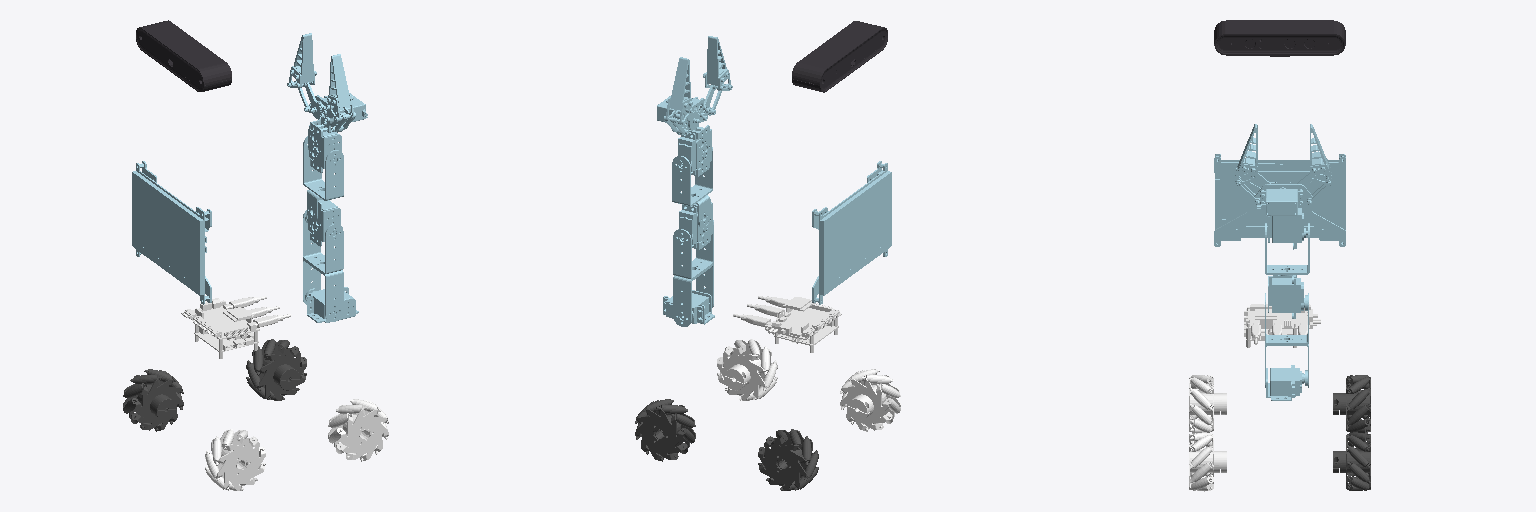
--- Facts derived from the render (not from the file) ---
The picture shows the robot from 3 angles, left to right: view 1: azimuth 30°, elevation 25°; view 2: azimuth 150°, elevation 25°; view 3: azimuth 270°, elevation 25°; orthographic projection.
Robot: mini_mec_moveit_four — 19 links, 18 joints (9 revolute, 4 continuous, 5 fixed); root link base_link; default pose: all joints at 0.
Visible links, largest first — view 1: display_link, camera_link, controller_link, j1_link, lb_wheel_link, rb_wheel_link, rf_wheel_link, lf_wheel_link, j2_link, j3_link, j4_6_link, j4_3_link (+1 smaller); view 2: display_link, camera_link, controller_link, lb_wheel_link, rb_wheel_link, lf_wheel_link, rf_wheel_link, j1_link, j2_link, j3_link, j4_3_link, j4_6_link (+1 smaller); view 3: display_link, camera_link, j3_link, j2_link, controller_link, rf_wheel_link, lf_wheel_link, rb_wheel_link, lb_wheel_link, arm_base_link, j4_6_link, j4_3_link (+1 smaller).
Link boxes in pixels (x1,y1,x2,y2): display_link: [132, 161, 211, 304]; camera_link: [136, 20, 231, 91]; controller_link: [181, 296, 290, 358]; j1_link: [303, 210, 343, 321]; lb_wheel_link: [123, 369, 183, 431]; rb_wheel_link: [205, 429, 265, 490]; rf_wheel_link: [328, 399, 388, 461]; lf_wheel_link: [246, 339, 306, 400]; j2_link: [303, 136, 343, 246]; j3_link: [308, 93, 367, 172]; j4_6_link: [326, 54, 355, 121]; j4_3_link: [287, 33, 316, 88]; display_link: [812, 161, 891, 304]; camera_link: [792, 21, 887, 92]; controller_link: [733, 296, 841, 352]; lb_wheel_link: [758, 429, 818, 490]; rb_wheel_link: [840, 369, 900, 431]; lf_wheel_link: [635, 399, 695, 461]; rf_wheel_link: [717, 339, 777, 400]; j1_link: [673, 220, 713, 326]; j2_link: [672, 147, 712, 249]; j3_link: [657, 96, 711, 176]; j4_3_link: [664, 57, 693, 124]; j4_6_link: [703, 36, 732, 90]; display_link: [1214, 154, 1345, 246]; camera_link: [1214, 20, 1345, 56]; j3_link: [1255, 184, 1312, 249]; j2_link: [1265, 223, 1309, 318]; controller_link: [1244, 304, 1320, 347]; rf_wheel_link: [1189, 432, 1226, 491]; lf_wheel_link: [1333, 432, 1370, 490]; rb_wheel_link: [1189, 375, 1226, 432]; lb_wheel_link: [1333, 375, 1370, 432]; arm_base_link: [1266, 365, 1303, 400]; j4_6_link: [1235, 124, 1257, 185]; j4_3_link: [1310, 124, 1331, 185].
Size in the robot's own frame: 0.2686 by 0.23 by 0.5538 metres.
Meshes: 19 distinct files referenced, 17 mesh visuals loaded (17 binary STL); not drawn: 2 (reference not matched to a file when rendering).

URDF robot description (mini_mec_moveit_four):
<?xml version="1.0" encoding="utf-8"?>
<!-- This URDF was automatically created by SolidWorks to URDF Exporter! Originally created by Stephen Brawner ([email redacted]) 
     Commit Version: 1.6.0-4-g7f85cfe  Build Version: 1.6.7995.38578
     For more information, please see http://wiki.ros.org/sw_urdf_exporter -->
<robot
  name="mini_mec_moveit_four">
  <link
    name="base_link">
    <inertial>
      <origin
        xyz="-0.0288890314206469 -0.015642077780476 0.0436360901071621"
        rpy="0 0 0" />
      <mass
        value="0.790407577795994" />
      <inertia
        ixx="0.000943597161237982"
        ixy="-1.71266218103295E-06"
        ixz="-5.31757304397624E-07"
        iyy="0.00118568090455033"
        iyz="-2.60899506016619E-07"
        izz="0.00117138387596436" />
    </inertial>
    <visual>
      <origin
        xyz="0 0 0"
        rpy="0 0 0" />
      <geometry>
        <mesh
          filename="package://wheeltec_robot_urdf/meshes/mini_mec_moveit_four_meshes/base_link.STL" />
      </geometry>
      <material
        name="">
        <color
          rgba="0.741176470588235 0.901960784313726 0.956862745098039 1" />
      </material>
    </visual>
    <collision>
      <origin
        xyz="0 0 0"
        rpy="0 0 0" />
      <geometry>
        <mesh
          filename="package://wheeltec_robot_urdf/meshes/mini_mec_moveit_four_meshes/base_link.STL" />
      </geometry>
    </collision>
  </link>
  <link
    name="lf_wheel_link">
    <inertial>
      <origin
        xyz="-4.83478163076144E-05 -0.00361887872849197 2.36591801652045E-05"
        rpy="0 0 0" />
      <mass
        value="0.0567325127195105" />
      <inertia
        ixx="2.10255136964011E-05"
        ixy="-1.10234792421598E-08"
        ixz="3.75231887154096E-09"
        iyy="3.39275378717874E-05"
        iyz="-8.512181626321E-10"
        izz="2.1005972294696E-05" />
    </inertial>
    <visual>
      <origin
        xyz="0 0 0"
        rpy="0 0 0" />
      <geometry>
        <mesh
          filename="package://wheeltec_robot_urdf/meshes/mini_mec_moveit_four_meshes/lf_wheel_link.STL" />
      </geometry>
      <material
        name="">
        <color
          rgba="0.376470588235294 0.376470588235294 0.376470588235294 1" />
      </material>
    </visual>
    <collision>
      <origin
        xyz="0 0 0"
        rpy="0 0 0" />
      <geometry>
        <mesh
          filename="package://wheeltec_robot_urdf/meshes/mini_mec_moveit_four_meshes/lf_wheel_link.STL" />
      </geometry>
    </collision>
  </link>
  <joint
    name="lf_wheel_joint"
    type="continuous">
    <origin
      xyz="0.0788906867829701 0.099101092708038 -0.0363"
      rpy="0 0 0" />
    <parent
      link="base_link" />
    <child
      link="lf_wheel_link" />
    <axis
      xyz="0 1 0" />
  </joint>
  <link
    name="lb_wheel_link">
    <inertial>
      <origin
        xyz="-4.83408906538918E-05 -0.00361520799762223 2.36829880558981E-05"
        rpy="0 0 0" />
      <mass
        value="0.0567315810020763" />
      <inertia
        ixx="2.10250586980581E-05"
        ixy="-1.10244929399991E-08"
        ixz="3.74419121690137E-09"
        iyy="3.39268129120576E-05"
        iyz="-8.4580711315252E-10"
        izz="2.10055351648923E-05" />
    </inertial>
    <visual>
      <origin
        xyz="0 0 0"
        rpy="0 0 0" />
      <geometry>
        <mesh
          filename="package://wheeltec_robot_urdf/meshes/mini_mec_moveit_four_meshes/lb_wheel_link.STL" />
      </geometry>
      <material
        name="">
        <color
          rgba="0.376470588235294 0.376470588235294 0.376470588235294 1" />
      </material>
    </visual>
    <collision>
      <origin
        xyz="0 0 0"
        rpy="0 0 0" />
      <geometry>
        <mesh
          filename="package://wheeltec_robot_urdf/meshes/mini_mec_moveit_four_meshes/lb_wheel_link.STL" />
      </geometry>
    </collision>
  </link>
  <joint
    name="lb_wheel_joint"
    type="continuous">
    <origin
      xyz="-0.0930093132170299 0.0990810927080386 -0.0363"
      rpy="0 0 0" />
    <parent
      link="base_link" />
    <child
      link="lb_wheel_link" />
    <axis
      xyz="0 1 0" />
  </joint>
  <link
    name="rb_wheel_link">
    <inertial>
      <origin
        xyz="4.83478187075781E-05 0.00361887872849195 2.36591801652045E-05"
        rpy="0 0 0" />
      <mass
        value="0.0567325127195103" />
      <inertia
        ixx="2.10255136964011E-05"
        ixy="-1.10234792421736E-08"
        ixz="-3.75231887155842E-09"
        iyy="3.39275378717874E-05"
        iyz="8.51218162637479E-10"
        izz="2.1005972294696E-05" />
    </inertial>
    <visual>
      <origin
        xyz="0 0 0"
        rpy="0 0 0" />
      <geometry>
        <mesh
          filename="package://wheeltec_robot_urdf/meshes/mini_mec_moveit_four_meshes/rb_wheel_link.STL" />
      </geometry>
      <material
        name="">
        <color
          rgba="1 1 1 1" />
      </material>
    </visual>
    <collision>
      <origin
        xyz="0 0 0"
        rpy="0 0 0" />
      <geometry>
        <mesh
          filename="package://wheeltec_robot_urdf/meshes/mini_mec_moveit_four_meshes/rb_wheel_link.STL" />
      </geometry>
    </collision>
  </link>
  <joint
    name="rb_wheel_joint"
    type="continuous">
    <origin
      xyz="-0.0930093132170305 -0.0989229072919614 -0.0363"
      rpy="0 0 0" />
    <parent
      link="base_link" />
    <child
      link="rb_wheel_link" />
    <axis
      xyz="0 -1 0" />
  </joint>
  <link
    name="rf_wheel_link">
    <inertial>
      <origin
        xyz="4.83408916039321E-05 0.00361520799762222 2.36829880558911E-05"
        rpy="0 0 0" />
      <mass
        value="0.0567315810020762" />
      <inertia
        ixx="2.1025058698058E-05"
        ixy="-1.10244929399854E-08"
        ixz="-3.74419121693089E-09"
        iyy="3.39268129120575E-05"
        iyz="8.45807113153057E-10"
        izz="2.10055351648923E-05" />
    </inertial>
    <visual>
      <origin
        xyz="0 0 0"
        rpy="0 0 0" />
      <geometry>
        <mesh
          filename="package://wheeltec_robot_urdf/meshes/mini_mec_moveit_four_meshes/rf_wheel_link.STL" />
      </geometry>
      <material
        name="">
        <color
          rgba="1 1 1 1" />
      </material>
    </visual>
    <collision>
      <origin
        xyz="0 0 0"
        rpy="0 0 0" />
      <geometry>
        <mesh
          filename="package://wheeltec_robot_urdf/meshes/mini_mec_moveit_four_meshes/rf_wheel_link.STL" />
      </geometry>
    </collision>
  </link>
  <joint
    name="rf_wheel_joint"
    type="continuous">
    <origin
      xyz="0.0788906867829694 -0.098902907291962 -0.0363"
      rpy="0 0 0" />
    <parent
      link="base_link" />
    <child
      link="rf_wheel_link" />
    <axis
      xyz="0 -1 0" />
  </joint>
  <link
    name="display_link">
    <inertial>
      <origin
        xyz="0.00138393934472542 6.1350833261072E-05 -0.000147784826508679"
        rpy="0 0 0" />
      <mass
        value="0.13658547407649" />
      <inertia
        ixx="0.000420294418622929"
        ixy="-6.6532385983323E-09"
        ixz="1.01680375210555E-07"
        iyy="0.00011971237995594"
        iyz="-2.9989136828546E-09"
        izz="0.000301574188295852" />
    </inertial>
    <visual>
      <origin
        xyz="0 0 0"
        rpy="0 0 0" />
      <geometry>
        <mesh
          filename="package://wheeltec_robot_urdf/meshes/mini_mec_moveit_four_meshes/display_link.STL" />
      </geometry>
      <material
        name="">
        <color
          rgba="0.741176470588235 0.901960784313726 0.956862745098039 1" />
      </material>
    </visual>
    <collision>
      <origin
        xyz="0 0 0"
        rpy="0 0 0" />
      <geometry>
        <mesh
          filename="package://wheeltec_robot_urdf/meshes/mini_mec_moveit_four_meshes/display_link.STL" />
      </geometry>
    </collision>
  </link>
  <joint
    name="display_joint"
    type="fixed">
    <origin
      xyz="-0.12884031321703 -0.000306907291961278 0.234556"
      rpy="0 0 0" />
    <parent
      link="base_link" />
    <child
      link="display_link" />
    <axis
      xyz="0 0 0" />
  </joint>
  <link
    name="camera_link">
    <inertial>
      <origin
        xyz="1.92132507986775E-07 2.71016083010166E-07 -1.33153068682113E-07"
        rpy="0 0 0" />
      <mass
        value="0.0467968467944478" />
      <inertia
        ixx="0.000124054725109586"
        ixy="1.14786553608882E-07"
        ixz="9.32111658822134E-08"
        iyy="1.46824987169094E-05"
        iyz="-1.36959577190691E-08"
        izz="0.000126757573502196" />
    </inertial>
    <visual>
      <origin
        xyz="0 0 0"
        rpy="0 0 0" />
      <geometry>
        <mesh
          filename="package://wheeltec_robot_urdf/meshes/mini_mec_moveit_four_meshes/camera_link.STL" />
      </geometry>
      <material
        name="">
        <color
          rgba="0.266666666666667 0.254901960784314 0.274509803921569 1" />
      </material>
    </visual>
    <collision>
      <origin
        xyz="0 0 0"
        rpy="0 0 0" />
      <geometry>
        <mesh
          filename="package://wheeltec_robot_urdf/meshes/mini_mec_moveit_four_meshes/camera_link.STL" />
      </geometry>
    </collision>
  </link>
  <joint
    name="camera_joint"
    type="fixed">
    <origin
      xyz="-0.10712931321703 0.000182092708038664 0.465042"
      rpy="0 0 0" />
    <parent
      link="base_link" />
    <child
      link="camera_link" />
    <axis
      xyz="0 0 0" />
  </joint>
  <link
    name="controller_link">
    <inertial>
      <origin
        xyz="-0.0153202309343642 0.0364072897050282 0.0252489862343937"
        rpy="0 0 0" />
      <mass
        value="0.0386298604939844" />
      <inertia
        ixx="2.20171985391327E-05"
        ixy="1.25708118727772E-06"
        ixz="-1.18411165982165E-07"
        iyy="2.40619422694007E-05"
        iyz="4.00646980395019E-07"
        izz="4.5104828922749E-05" />
    </inertial>
    <visual>
      <origin
        xyz="0 0 0"
        rpy="0 0 0" />
      <geometry>
        <mesh
          filename="package://wheeltec_robot_urdf/meshes/mini_mec_moveit_four_meshes/controller_link.STL" />
      </geometry>
      <material
        name="">
        <color
          rgba="1 1 1 1" />
      </material>
    </visual>
    <collision>
      <origin
        xyz="0 0 0"
        rpy="0 0 0" />
      <geometry>
        <mesh
          filename="package://wheeltec_robot_urdf/meshes/mini_mec_moveit_four_meshes/controller_link.STL" />
      </geometry>
    </collision>
  </link>
  <joint
    name="controller_joint"
    type="fixed">
    <origin
      xyz="-0.027713924223503 -0.040735803599292 0.0719999764122504"
      rpy="0 0 0" />
    <parent
      link="base_link" />
    <child
      link="controller_link" />
    <axis
      xyz="0 0 0" />
  </joint>
  <link
    name="laser_link">
    <inertial>
      <origin
        xyz="0.002506303113797 -4.56584138454829E-06 0.00608265171345093"
        rpy="0 0 0" />
      <mass
        value="0.0374307357752242" />
      <inertia
        ixx="2.80476450253966E-05"
        ixy="-2.1990036892983E-09"
        ixz="1.07118438656851E-06"
        iyy="3.36164872395303E-05"
        iyz="6.83963484251461E-10"
        izz="4.50845485892843E-05" />
    </inertial>
    <visual>
      <origin
        xyz="0 0 0"
        rpy="0 0 0" />
      <geometry>
        <mesh
          filename="package://wheeltec_robot_urdf/meshes/mini_mec_moveit_four_meshes/laser.STL" />
      </geometry>
      <material
        name="">
        <color
          rgba="0.376470588235294 0.376470588235294 0.376470588235294 1" />
      </material>
    </visual>
    <collision>
      <origin
        xyz="0 0 0"
        rpy="0 0 0" />
      <geometry>
        <mesh
          filename="package://wheeltec_robot_urdf/meshes/mini_mec_moveit_four_meshes/laser.STL" />
      </geometry>
    </collision>
  </link>
  <joint
    name="laser_joint"
    type="fixed">
    <origin
      xyz="0.0903982522908868 8.90927067649963E-05 0.011024183741431"
      rpy="0 0 3.14159265358979" />
    <parent
      link="base_link" />
    <child
      link="laser_link" />
    <axis
      xyz="0 0 0" />
  </joint>
  <link
    name="arm_base_link">
    <inertial>
      <origin
        xyz="-0.000199500251190182 0.00484632807246536 0.010410896975763"
        rpy="0 0 0" />
      <mass
        value="0.038029914699691" />
      <inertia
        ixx="6.59286998207163E-06"
        ixy="1.52166973047949E-07"
        ixz="-6.11635522640715E-11"
        iyy="7.36864724408771E-06"
        iyz="1.45081779343016E-07"
        izz="1.12027270721149E-05" />
    </inertial>
    <visual>
      <origin
        xyz="0 0 0"
        rpy="0 0 0" />
      <geometry>
        <mesh
          filename="package://wheeltec_robot_urdf/meshes/mini_mec_moveit_four_meshes/arm_base_link.STL" />
      </geometry>
      <material
        name="">
        <color
          rgba="0.741176470588235 0.901960784313726 0.956862745098039 1" />
      </material>
    </visual>
    <collision>
      <origin
        xyz="0 0 0"
        rpy="0 0 0" />
      <geometry>
        <mesh
          filename="package://wheeltec_robot_urdf/meshes/mini_mec_moveit_four_meshes/arm_base_link.STL" />
      </geometry>
    </collision>
  </link>
  <joint
    name="arm_base_joint"
    type="fixed">
    <origin
      xyz="0.10149068678574 0.0014721798827412 0.0740000000000003"
      rpy="0 0 0" />
    <parent
      link="base_link" />
    <child
      link="arm_base_link" />
    <axis
      xyz="0 0 0" />
  </joint>
  <link
    name="j1_link">
    <inertial>
      <origin
        xyz="-6.69603261727048E-16 -0.0496519077290491 -0.0237858190346654"
        rpy="0 0 0" />
      <mass
        value="0.0173546467959671" />
      <inertia
        ixx="1.62161311115798E-05"
        ixy="-2.32968765805357E-20"
        ixz="-1.81409681047434E-19"
        iyy="1.04896423510421E-05"
        iyz="-3.34422981326276E-20"
        izz="7.52372716212686E-06" />
    </inertial>
    <visual>
      <origin
        xyz="0 0 0"
        rpy="0 0 0" />
      <geometry>
        <mesh
          filename="package://wheeltec_robot_urdf/meshes/mini_mec_moveit_four_meshes/j1_link.STL" />
      </geometry>
      <material
        name="">
        <color
          rgba="0.741176470588235 0.901960784313726 0.956862745098039 1" />
      </material>
    </visual>
    <collision>
      <origin
        xyz="0 0 0"
        rpy="0 0 0" />
      <geometry>
        <mesh
          filename="package://wheeltec_robot_urdf/meshes/mini_mec_moveit_four_meshes/j1_link.STL" />
      </geometry>
    </collision>
  </link>
  <joint
    name="j1_joint"
    type="revolute">
    <origin
      xyz="-0.00999999999999921 0.032399301812847 0.0114999999999992"
      rpy="-1.5707963267949 0 0" />
    <parent
      link="arm_base_link" />
    <child
      link="j1_link" />
    <axis
      xyz="0 0 -1" />
    <limit
      lower="-0.785"
      upper="0.785"
      effort="100"
      velocity="0" />
  </joint>
  <link
    name="j2_link">
    <inertial>
      <origin
        xyz="-0.00114290586966886 -0.0203057136397977 -0.0277794376874351"
        rpy="0 0 0" />
      <mass
        value="0.0497610150256722" />
      <inertia
        ixx="1.97699131876004E-05"
        ixy="1.29484660544384E-07"
        ixz="1.45081779342936E-07"
        iyy="1.21511693273601E-05"
        iyz="-1.52071961891757E-07"
        izz="1.16329572702907E-05" />
    </inertial>
    <visual>
      <origin
        xyz="0 0 0"
        rpy="0 0 0" />
      <geometry>
        <mesh
          filename="package://wheeltec_robot_urdf/meshes/mini_mec_moveit_four_meshes/j2_link.STL" />
      </geometry>
      <material
        name="">
        <color
          rgba="0.741176470588235 0.901960784313726 0.956862745098039 1" />
      </material>
    </visual>
    <collision>
      <origin
        xyz="0 0 0"
        rpy="0 0 0" />
      <geometry>
        <mesh
          filename="package://wheeltec_robot_urdf/meshes/mini_mec_moveit_four_meshes/j2_link.STL" />
      </geometry>
    </collision>
  </link>
  <joint
    name="j2_joint"
    type="revolute">
    <origin
      xyz="0 -0.105 0.00290000000000422"
      rpy="0 0 0" />
    <parent
      link="j1_link" />
    <child
      link="j2_link" />
    <axis
      xyz="0 0 1" />
    <limit
      lower="-0.785"
      upper="0.785"
      effort="100"
      velocity="0" />
  </joint>
  <link
    name="j3_link">
    <inertial>
      <origin
        xyz="0.00959813593617771 -0.031720113785933 -0.0315813573127126"
        rpy="0 0 0" />
      <mass
        value="0.0762881650993862" />
      <inertia
        ixx="1.8795264518785E-05"
        ixy="7.13632952663881E-11"
        ixz="1.43436287784977E-07"
        iyy="1.68826177897321E-05"
        iyz="-1.41803488592542E-07"
        izz="1.29508550064152E-05" />
    </inertial>
    <visual>
      <origin
        xyz="0 0 0"
        rpy="0 0 0" />
      <geometry>
        <mesh
          filename="package://wheeltec_robot_urdf/meshes/mini_mec_moveit_four_meshes/j3_link.STL" />
      </geometry>
      <material
        name="">
        <color
          rgba="0.741176470588235 0.901960784313726 0.956862745098039 1" />
      </material>
    </visual>
    <collision>
      <origin
        xyz="0 0 0"
        rpy="0 0 0" />
      <geometry>
        <mesh
          filename="package://wheeltec_robot_urdf/meshes/mini_mec_moveit_four_meshes/j3_link.STL" />
      </geometry>
    </collision>
  </link>
  <joint
    name="j3_joint"
    type="revolute">
    <origin
      xyz="0.00099999999999986 -0.0974999999999999 0.000500000000001243"
      rpy="0 0 0" />
    <parent
      link="j2_link" />
    <child
      link="j3_link" />
    <axis
      xyz="0 0 1" />
    <limit
      lower="-0.785"
      upper="0.785"
      effort="100"
      velocity="0" />
  </joint>
  <link
    name="j4_1_link">
    <inertial>
      <origin
        xyz="-0.00534271126431407 0.00470847702272625 0.0016902404190861"
        rpy="0 0 0" />
      <mass
        value="0.00237005562674736" />
      <inertia
        ixx="2.11923294458465E-07"
        ixy="1.51745831304805E-07"
        ixz="3.01830120012219E-21"
        iyy="1.99850539861075E-07"
        iyz="2.41575675710103E-21"
        izz="4.03439992200736E-07" />
    </inertial>
    <visual>
      <origin
        xyz="0 0 0"
        rpy="0 0 0" />
      <geometry>
        <mesh
          filename="package://wheeltec_robot_urdf/meshes/mini_mec_moveit_four_meshes/j4_1_link.STL" />
      </geometry>
      <material
        name="">
        <color
          rgba="0.741176470588235 0.901960784313726 0.956862745098039 1" />
      </material>
    </visual>
    <collision>
      <origin
        xyz="0 0 0"
        rpy="0 0 0" />
      <geometry>
        <mesh
          filename="package://wheeltec_robot_urdf/meshes/mini_mec_moveit_four_meshes/j4_1_link.STL" />
      </geometry>
    </collision>
  </link>
  <joint
    name="j4_1_joint"
    type="revolute">
    <origin
      xyz="-0.00650000000000173 -0.0540000000000189 -0.0199999999999771"
      rpy="1.5707963267949 0 1.5707963267949" />
    <parent
      link="j3_link" />
    <child
      link="j4_1_link" />
    <axis
      xyz="0 0 1" />
    <limit
      lower="-0.785"
      upper="0.785"
      effort="100"
      velocity="0" />
  </joint>
  <link
    name="j4_3_link">
    <inertial>
      <origin
        xyz="-0.0192027059357028 0.00618966273491812 0.000980029810657063"
        rpy="0 0 0" />
      <mass
        value="0.0111184078826834" />
      <inertia
        ixx="7.09499232618663E-07"
        ixy="-3.12169913809393E-07"
        ixz="4.47080012502639E-13"
        iyy="2.26651224287943E-06"
        iyz="6.3272973267212E-14"
        izz="2.52378788484381E-06" />
    </inertial>
    <visual>
      <origin
        xyz="0 0 0"
        rpy="0 0 0" />
      <geometry>
        <mesh
          filename="package://wheeltec_robot_urdf/meshes/mini_mec_moveit_four_meshes/j4_3_link.STL" />
      </geometry>
      <material
        name="">
        <color
          rgba="0.741176470588235 0.901960784313726 0.956862745098039 1" />
      </material>
    </visual>
    <collision>
      <origin
        xyz="0 0 0"
        rpy="0 0 0" />
      <geometry>
        <mesh
          filename="package://wheeltec_robot_urdf/meshes/mini_mec_moveit_four_meshes/j4_3_link.STL" />
      </geometry>
    </collision>
  </link>
  <joint
    name="j4_3_joint"
    type="revolute">
    <origin
      xyz="-0.0250231660532003 0.024471231286429 0"
      rpy="0 0 0" />
    <parent
      link="j4_1_link" />
    <child
      link="j4_3_link" />
    <axis
      xyz="0 0 1" />
    <limit
      lower="-0.785"
      upper="0.785"
      effort="100"
      velocity="0" />
  </joint>
  <link
    name="j4_2_link">
    <inertial>
      <origin
        xyz="-0.00954737937245298 0.0101866641207963 0.000489865788482698"
        rpy="0 0 0" />
      <mass
        value="0.00179047522763262" />
      <inertia
        ixx="9.65197845687106E-08"
        ixy="8.30022521497664E-08"
        ixz="2.33000929174193E-22"
        iyy="1.00222630589113E-07"
        iyz="-8.88658369061452E-23"
        izz="1.77031797920281E-07" />
    </inertial>
    <visual>
      <origin
        xyz="0 0 0"
        rpy="0 0 0" />
      <geometry>
        <mesh
          filename="package://wheeltec_robot_urdf/meshes/mini_mec_moveit_four_meshes/j4_2_link.STL" />
      </geometry>
      <material
        name="">
        <color
          rgba="0.741176470588235 0.901960784313726 0.956862745098039 1" />
      </material>
    </visual>
    <collision>
      <origin
        xyz="0 0 0"
        rpy="0 0 0" />
      <geometry>
        <mesh
          filename="package://wheeltec_robot_urdf/meshes/mini_mec_moveit_four_meshes/j4_2_link.STL" />
      </geometry>
    </collision>
  </link>
  <joint
    name="j4_2_joint"
    type="revolute">
    <origin
      xyz="-0.00050000000000126 -0.0466465669184956 0.000203391346908902"
      rpy="1.5707963267949 0 1.5707963267949" />
    <parent
      link="j3_link" />
    <child
      link="j4_2_link" />
    <axis
      xyz="0 0 -1" />
    <limit
      lower="-0.785"
      upper="0.785"
      effort="100"
      velocity="0" />
  </joint>
  <link
    name="j4_4_link">
    <inertial>
      <origin
        xyz="0.00421464287575968 0.0035693955295706 0.00227514475316279"
        rpy="0 0 0" />
      <mass
        value="0.00307449011231024" />
      <inertia
        ixx="2.13872485116534E-07"
        ixy="-1.40876829989055E-07"
        ixz="5.50769147296619E-21"
        iyy="2.06574693872327E-07"
        iyz="4.49772458291096E-21"
        izz="4.07830138395685E-07" />
    </inertial>
    <visual>
      <origin
        xyz="0 0 0"
        rpy="0 0 0" />
      <geometry>
        <mesh
          filename="package://wheeltec_robot_urdf/meshes/mini_mec_moveit_four_meshes/j4_4_link.STL" />
      </geometry>
      <material
        name="">
        <color
          rgba="0.741176470588235 0.901960784313726 0.956862745098039 1" />
      </material>
    </visual>
    <collision>
      <origin
        xyz="0 0 0"
        rpy="0 0 0" />
      <geometry>
        <mesh
          filename="package://wheeltec_robot_urdf/meshes/mini_mec_moveit_four_meshes/j4_4_link.STL" />
      </geometry>
    </collision>
  </link>
  <joint
    name="j4_4_joint"
    type="revolute">
    <origin
      xyz="-0.0065000000000024 -0.054000000000039 -0.0449999999999874"
      rpy="-1.5707963267949 0 -1.5707963267949" />
    <parent
      link="j3_link" />
    <child
      link="j4_4_link" />
    <axis
      xyz="0 0 1" />
    <limit
      lower="-0.785"
      upper="0.785"
      effort="100"
      velocity="0" />
  </joint>
  <link
    name="j4_6_link">
    <inertial>
      <origin
        xyz="0.0193552201368095 0.00658804624478776 0.000956905921696623"
        rpy="0 0 0" />
      <mass
        value="0.0110869938441036" />
      <inertia
        ixx="7.09396223567134E-07"
        ixy="3.12207718593054E-07"
        ixz="-3.44198254064808E-13"
        iyy="2.26638567960552E-06"
        iyz="3.99343106925448E-14"
        izz="2.52356347882981E-06" />
    </inertial>
    <visual>
      <origin
        xyz="0 0 0"
        rpy="0 0 0" />
      <geometry>
        <mesh
          filename="package://wheeltec_robot_urdf/meshes/mini_mec_moveit_four_meshes/j4_6_link.STL" />
      </geometry>
      <material
        name="">
        <color
          rgba="0.741176470588235 0.901960784313726 0.956862745098039 1" />
      </material>
    </visual>
    <collision>
      <origin
        xyz="0 0 0"
        rpy="0 0 0" />
      <geometry>
        <mesh
          filename="package://wheeltec_robot_urdf/meshes/mini_mec_moveit_four_meshes/j4_6_link.STL" />
      </geometry>
    </collision>
  </link>
  <joint
    name="j4_6_joint"
    type="revolute">
    <origin
      xyz="0.0253818801308858 0.0240989659741114 0"
      rpy="0 0 0" />
    <parent
      link="j4_4_link" />
    <child
      link="j4_6_link" />
    <axis
      xyz="0 0 1" />
    <limit
      lower="-0.785"
      upper="0.785"
      effort="100"
      velocity="0" />
  </joint>
  <link
    name="j4_5_link">
    <inertial>
      <origin
        xyz="0.00805509859122144 0.00857351325735725 0.000997425098480659"
        rpy="0 0 0" />
      <mass
        value="0.00162082922433875" />
      <inertia
        ixx="9.26870408637332E-08"
        ixy="-8.29113514522134E-08"
        ixz="2.97048280634672E-21"
        iyy="1.01291558157085E-07"
        iyz="2.79154456911573E-21"
        izz="1.76077539151743E-07" />
    </inertial>
    <visual>
      <origin
        xyz="0 0 0"
        rpy="0 0 0" />
      <geometry>
        <mesh
          filename="package://wheeltec_robot_urdf/meshes/mini_mec_moveit_four_meshes/j4_5_link.STL" />
      </geometry>
      <material
        name="">
        <color
          rgba="0.741176470588235 0.901960784313726 0.956862745098039 1" />
      </material>
    </visual>
    <collision>
      <origin
        xyz="0 0 0"
        rpy="0 0 0" />
      <geometry>
        <mesh
          filename="package://wheeltec_robot_urdf/meshes/mini_mec_moveit_four_meshes/j4_5_link.STL" />
      </geometry>
    </collision>
  </link>
  <joint
    name="j4_5_joint"
    type="revolute">
    <origin
      xyz="-0.000500000000002426 -0.0466465669185689 -0.0652033913468851"
      rpy="-1.5707963267949 0 -1.5707963267949" />
    <parent
      link="j3_link" />
    <child
      link="j4_5_link" />
    <axis
      xyz="0 0 -1" />
    <limit
      lower="-0.785"
      upper="0.785"
      effort="100"
      velocity="0" />
  </joint>
</robot>
